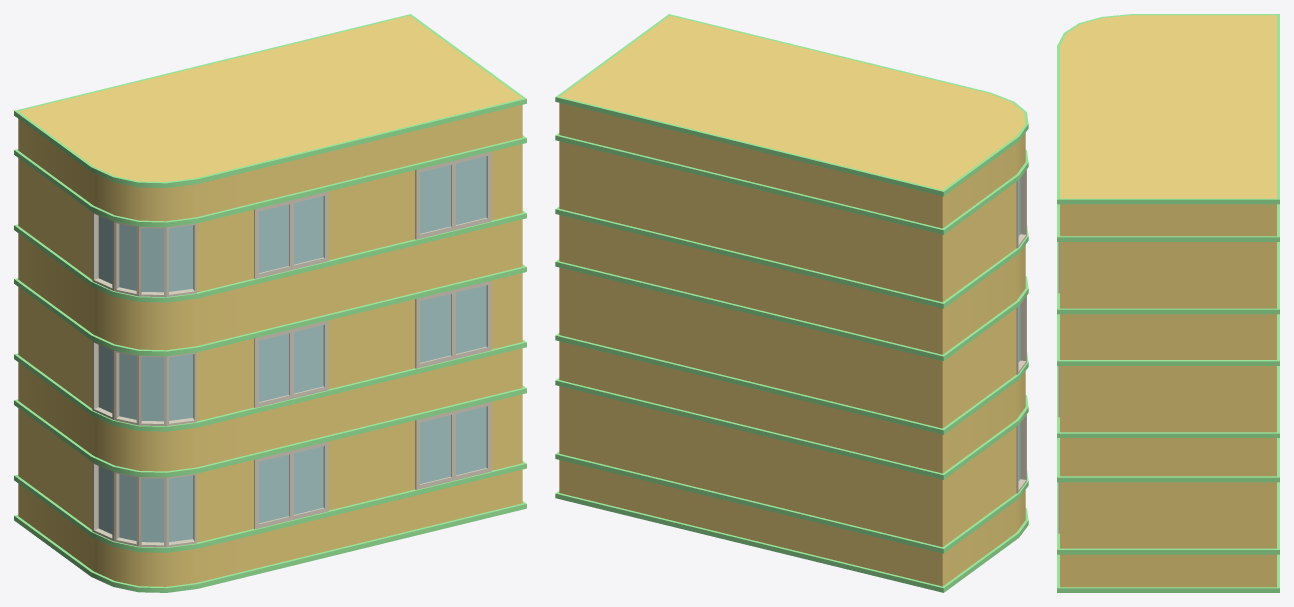
The model's file is Tentacule_Building_002.FBX.
3 views of the same model, side by side, from view 1: azimuth 30°, elevation 25°; view 2: azimuth 150°, elevation 25°; view 3: azimuth 270°, elevation 25° (orthographic). The views are drawn at different scales.
Parts seen in each view (by area): view 1: Tentacule_Building_002; view 2: Tentacule_Building_002; view 3: Tentacule_Building_002.
Part boxes in pixels (x1=…): Tentacule_Building_002: x1=14, y1=14, x2=526, y2=592; Tentacule_Building_002: x1=555, y1=14, x2=1028, y2=592; Tentacule_Building_002: x1=1057, y1=14, x2=1279, y2=592.
Bounding box in the file's own units: 304 × 300 × 154.
